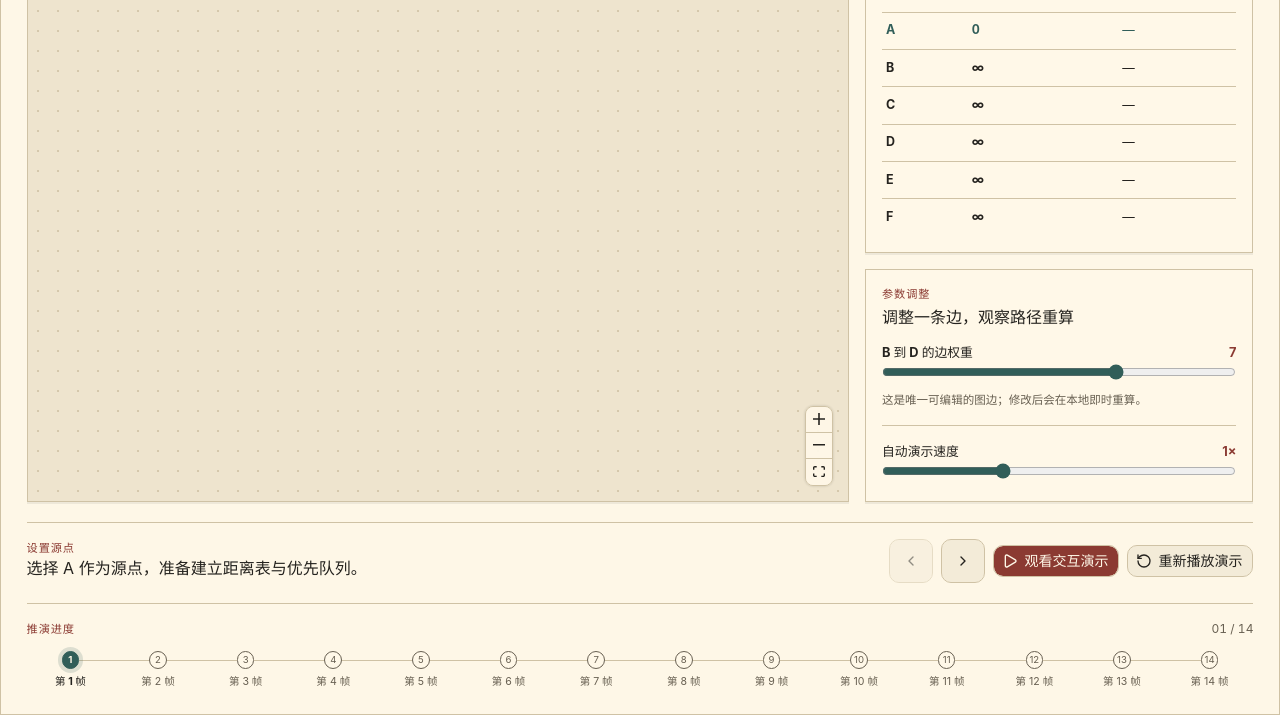
Test: DijkstraDemo › enables explicit playback when native reduced motion turns off
(page scrolled)
What coordinates should you click on to do the following:
click the button "观看交互演示"
I would click on:
 (1056, 561)
Its box is 993,545 -> 1119,577.
(page scrolled)
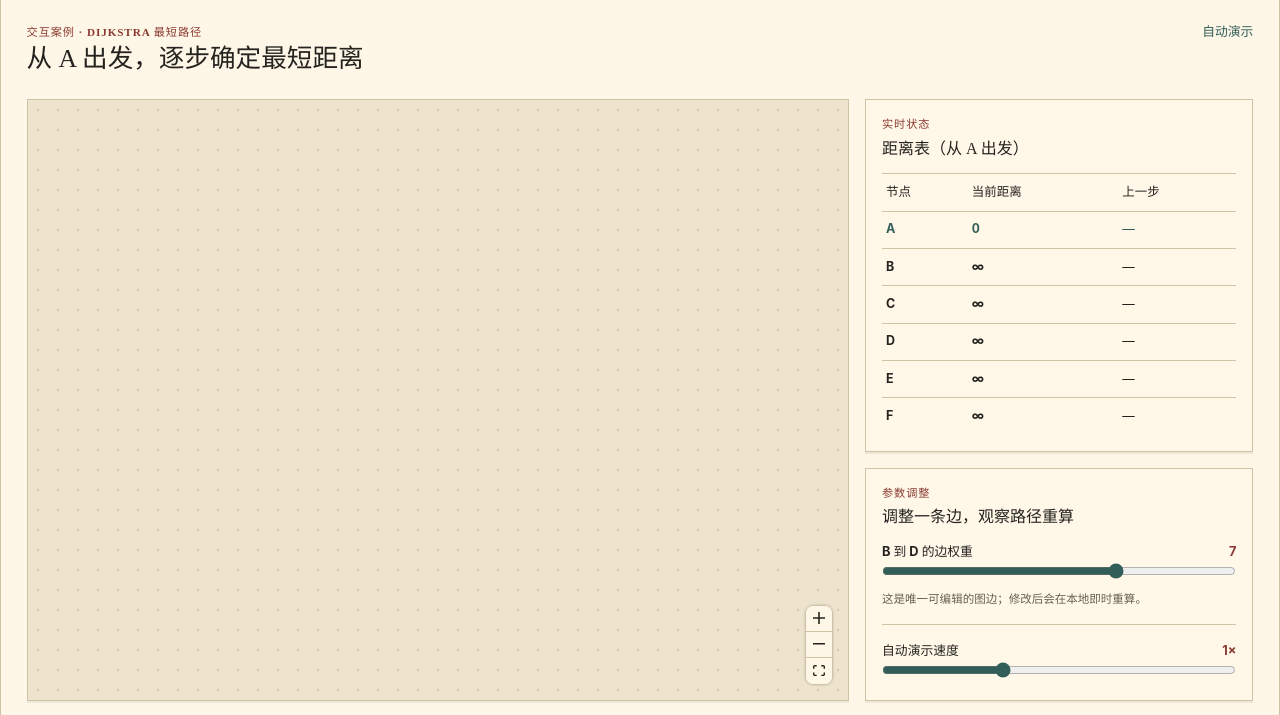
Result: the text "自动演示" is shown at 1202,22 -> 1253,41
